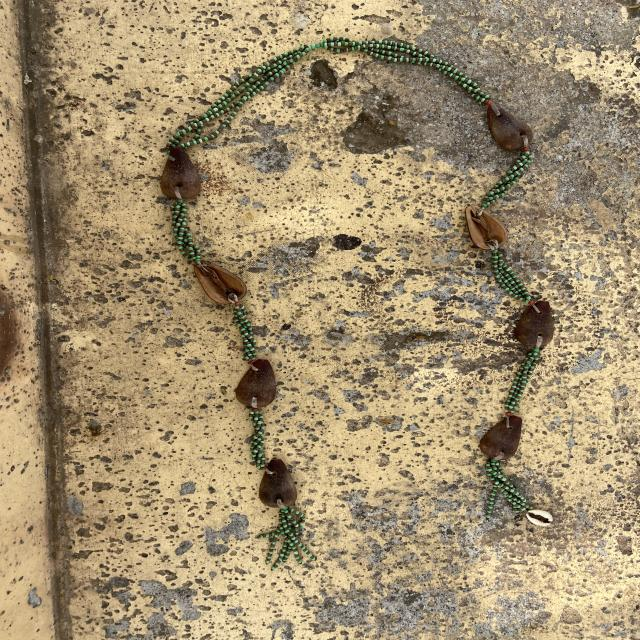facedown: (156, 138, 208, 208), (507, 292, 564, 355), (483, 99, 541, 155), (252, 456, 305, 510), (476, 411, 529, 463), (234, 360, 284, 409)
faceup: (186, 261, 258, 312), (458, 204, 515, 253)
